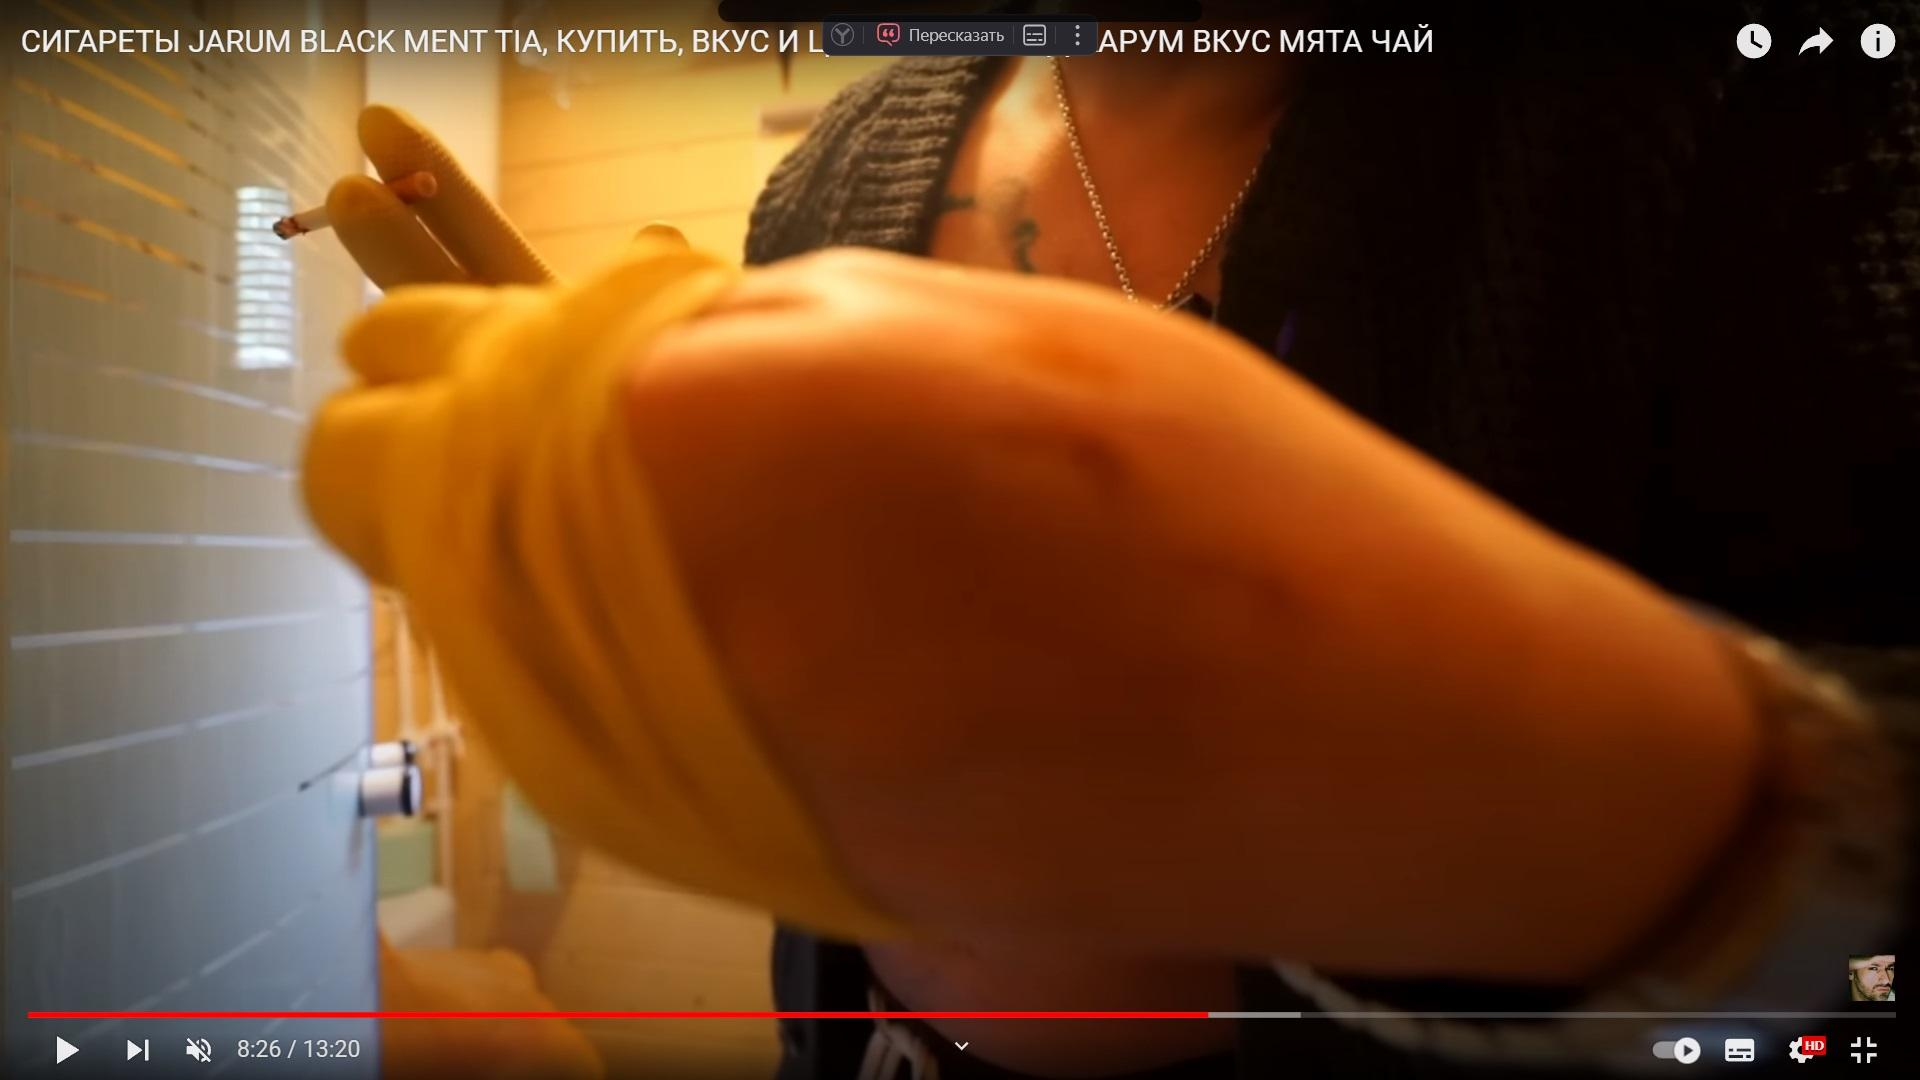cigarette: (273, 173, 438, 240)
